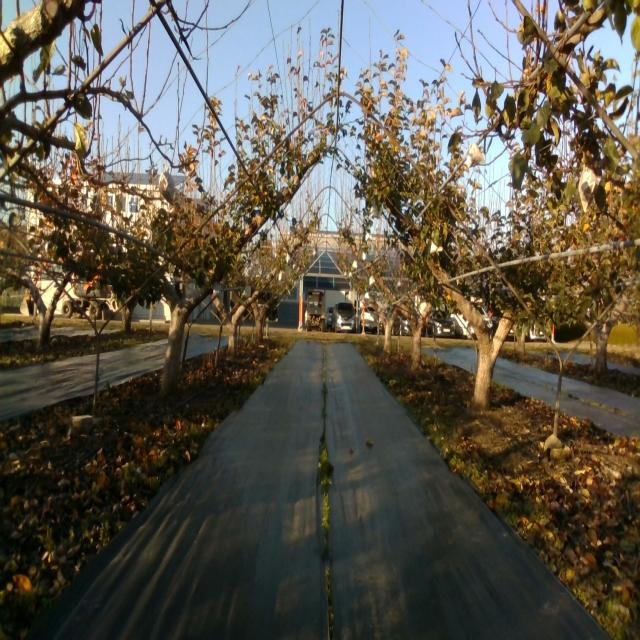pearbags: (578, 163, 600, 214), (159, 164, 174, 205), (466, 144, 485, 172)
